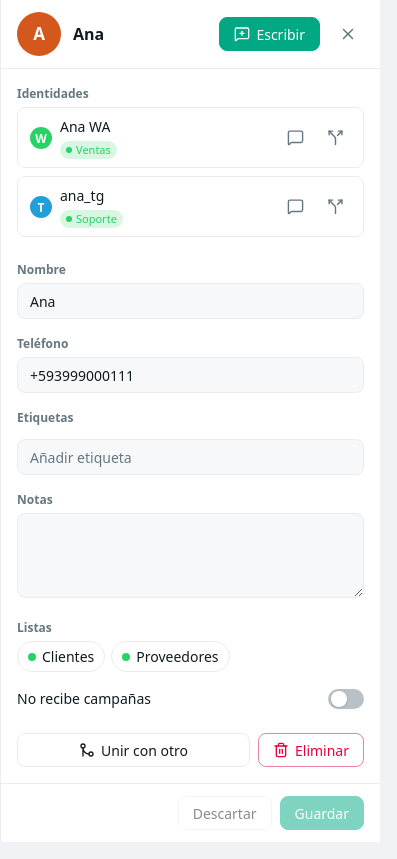
Test: ContactPanel (ficha) › Descartar vuelve a los datos guardados y borra el borrador
Replace the text in the field labelled "Nombre" with "Otro" at (190, 301), box x1=17 y1=283 x2=364 y2=319
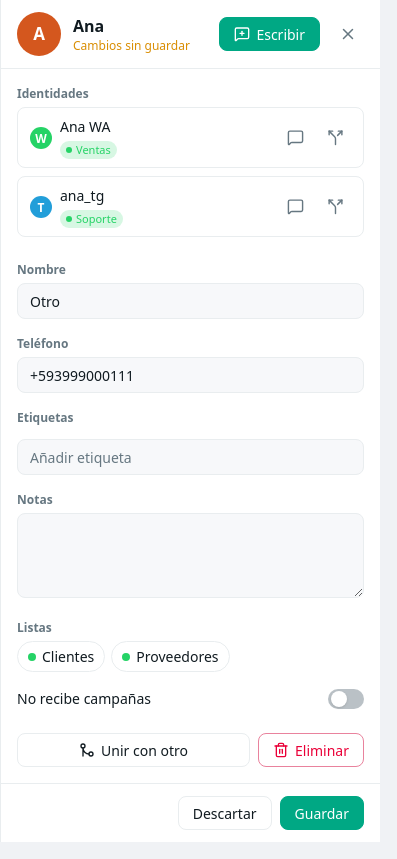
Click the button "Descartar" at (225, 813), box x1=178 y1=796 x2=272 y2=830
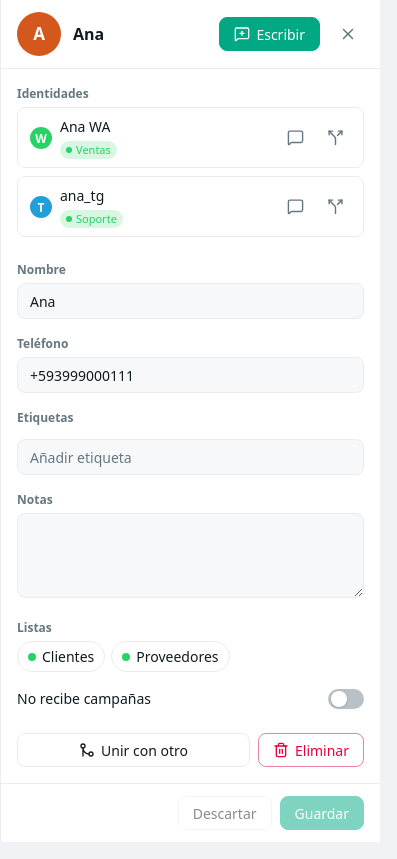
Now the field labelled "Nombre" holds "Ana", box x1=17 y1=283 x2=364 y2=319
